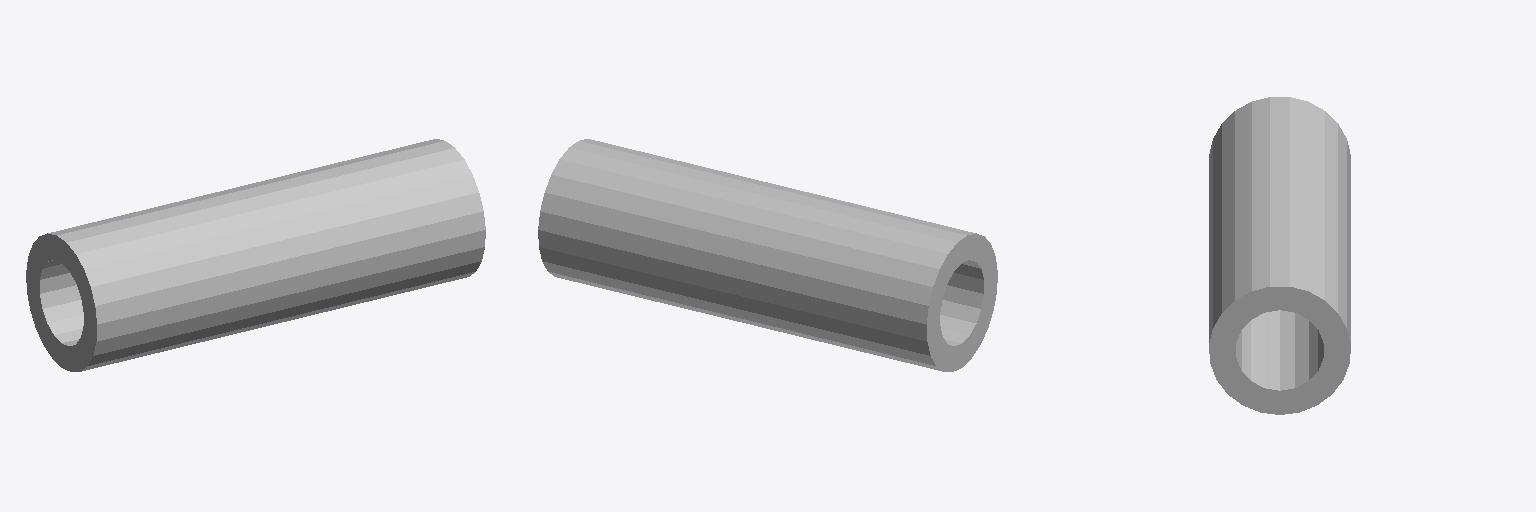
The model's file is Поршневой палец.obj.
3 renders of one model, left to right at view 1: azimuth 30°, elevation 25°; view 2: azimuth 150°, elevation 25°; view 3: azimuth 270°, elevation 25°, orthographic.
Visible parts, largest first — view 1: Поршневой_палец; view 2: Поршневой_палец; view 3: Поршневой_палец.
Part boxes in pixels (x1,y1,x2,y2): Поршневой_палец: (26, 139, 485, 371); Поршневой_палец: (538, 139, 997, 371); Поршневой_палец: (1209, 97, 1350, 414).
Size of the model in its own units: 67.31 by 21.28 by 21.33.